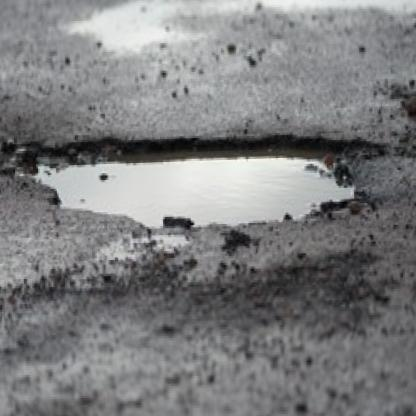pothole: (9, 122, 386, 240)
